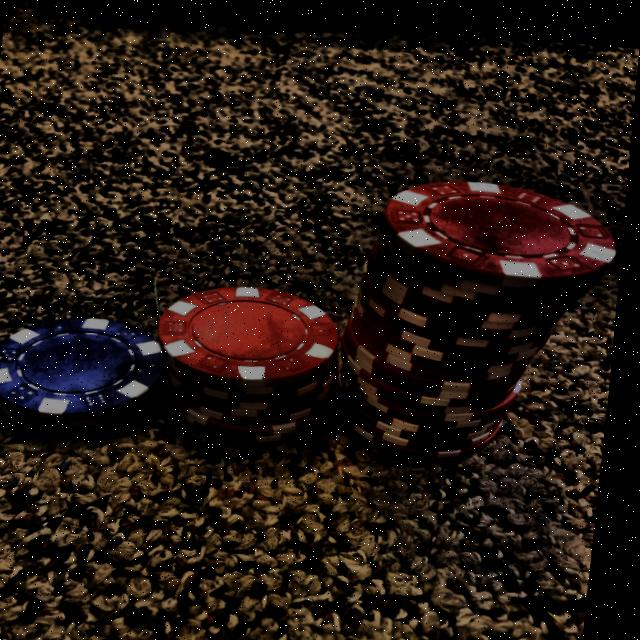Chip: (335, 164, 627, 466), (151, 274, 352, 444), (0, 307, 175, 442)
